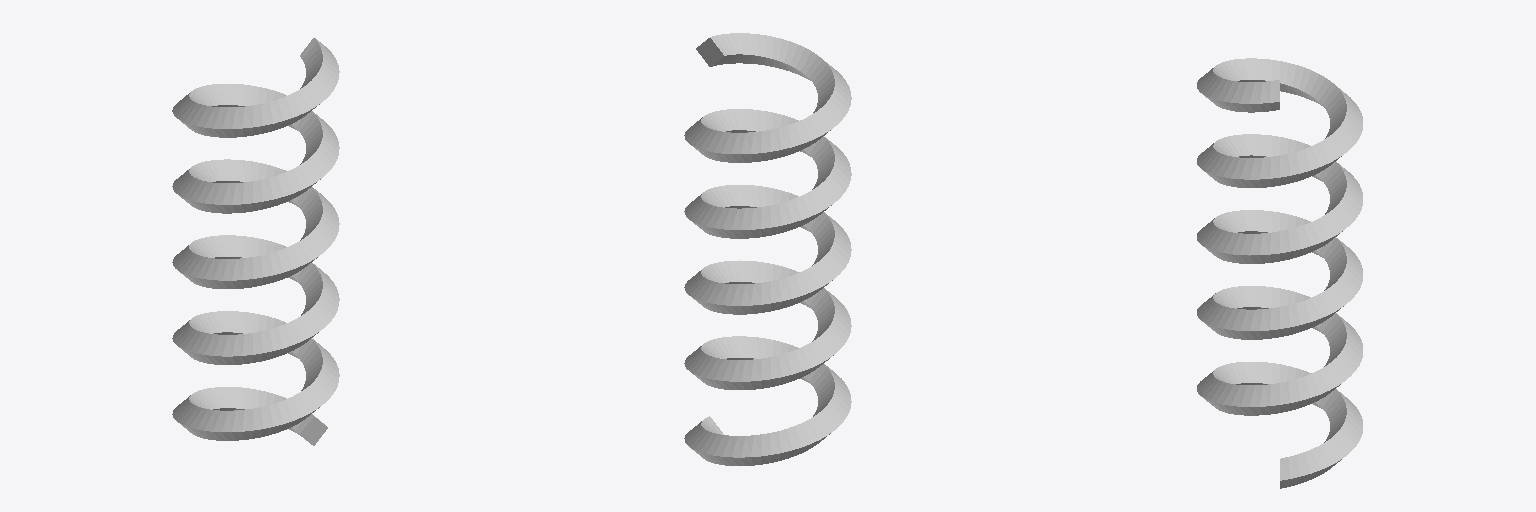
Rendered from spiral.obj.
3 views of the same model, side by side, from view 1: azimuth 30°, elevation 25°; view 2: azimuth 150°, elevation 25°; view 3: azimuth 270°, elevation 25° (orthographic).
Parts seen in each view (by area): view 1: pHelix1; view 2: pHelix1; view 3: pHelix1.
Boxes of the visible parts, x1=… form: pHelix1: x1=172, y1=38, x2=339, y2=445; pHelix1: x1=684, y1=33, x2=851, y2=465; pHelix1: x1=1197, y1=58, x2=1362, y2=488.
Bounding box in the file's own units: 2 × 5.4 × 2.